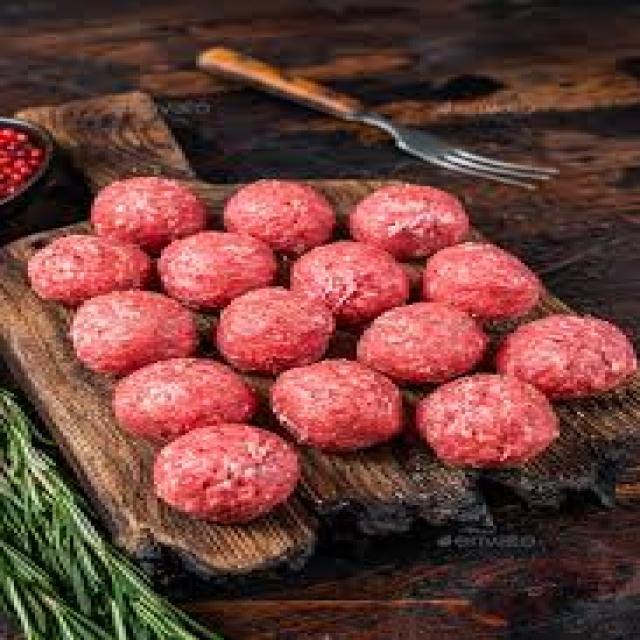Meatball: (137, 418, 304, 530), (262, 348, 414, 451), (100, 347, 262, 438), (420, 370, 555, 472), (492, 312, 640, 402), (61, 285, 205, 375), (203, 281, 341, 371), (77, 160, 223, 240), (290, 236, 419, 323), (344, 180, 481, 260), (152, 222, 280, 306), (354, 303, 492, 380), (215, 178, 347, 254), (414, 244, 551, 317), (36, 228, 158, 305)
